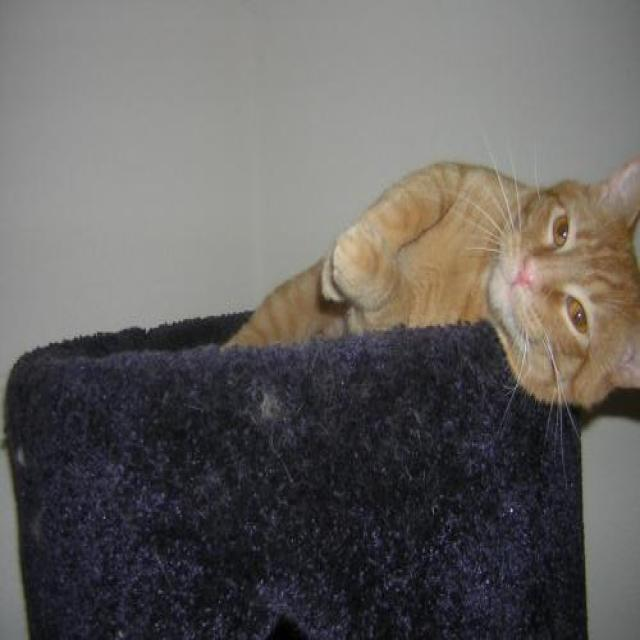Cats: (217, 147, 638, 450)
